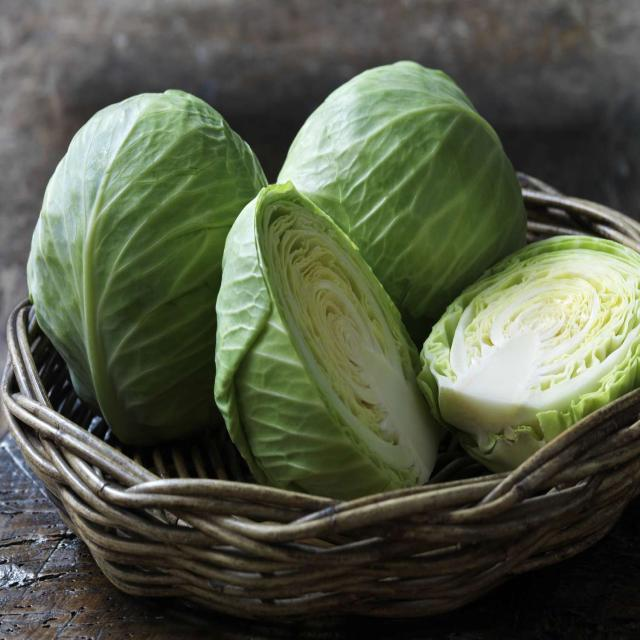cabbage: (30, 85, 281, 453), (277, 56, 530, 344)
haft-cabbage: (212, 167, 433, 517), (423, 229, 640, 486)
